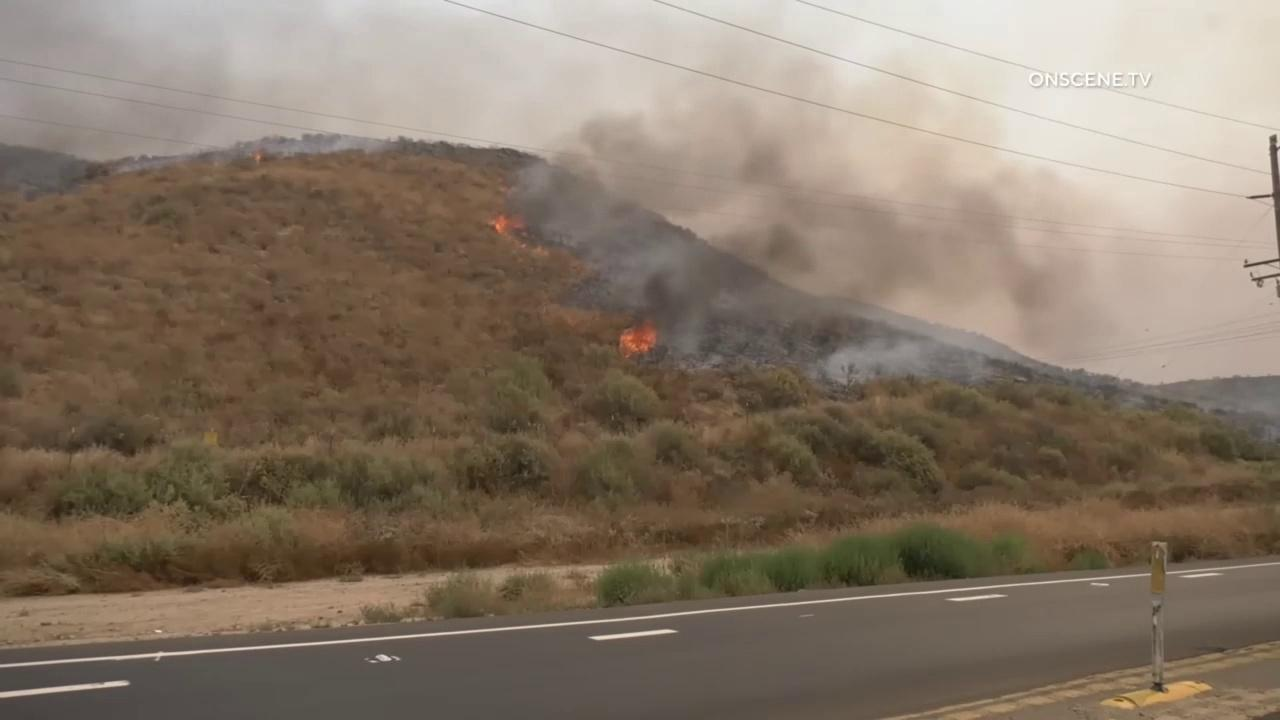fire: (618, 319, 658, 359), (511, 212, 527, 230), (495, 216, 508, 237), (254, 150, 261, 163)
smoke: (499, 58, 1280, 443), (0, 0, 408, 176)
